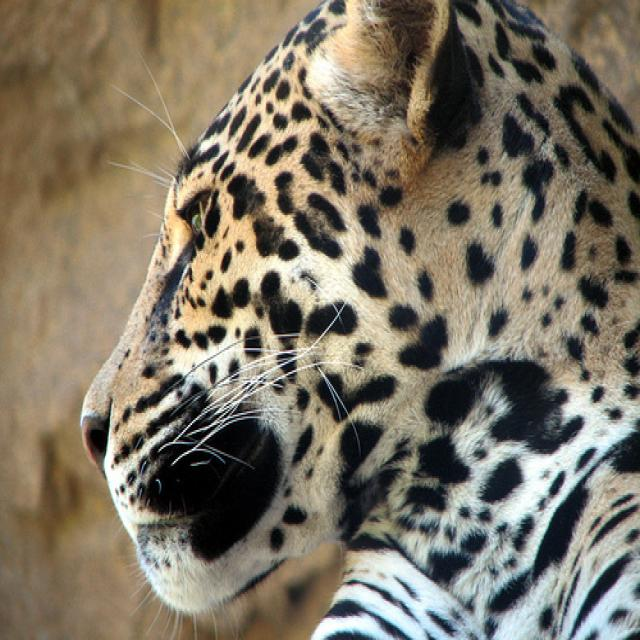Leopard: (74, 0, 636, 637)
